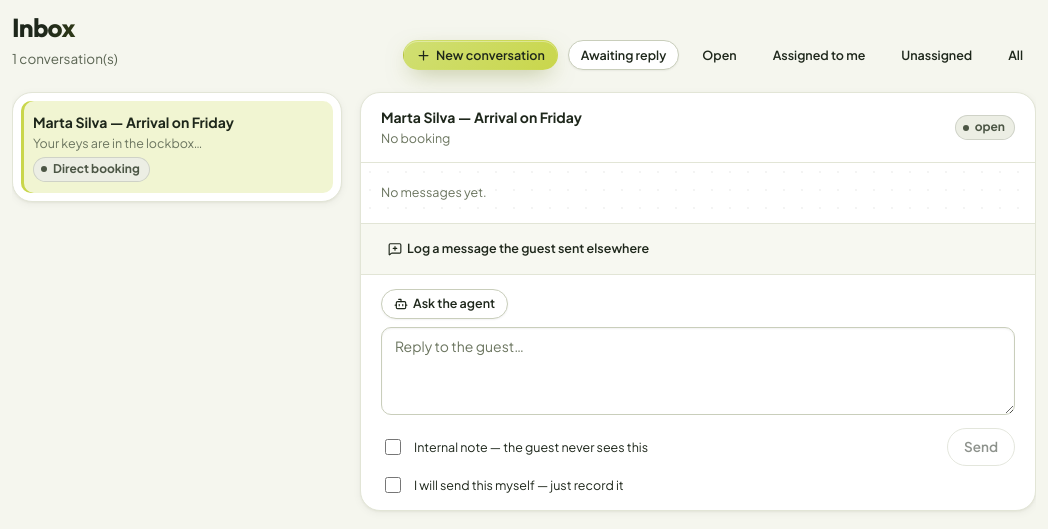
Test case: logging messages that travelled elsewhere › explains itself when there is nothing for the agent to answer
This screenshot has width=1048, height=529.
Click the button "Ask the agent".
click(444, 304)  # box [381,288,508,318]
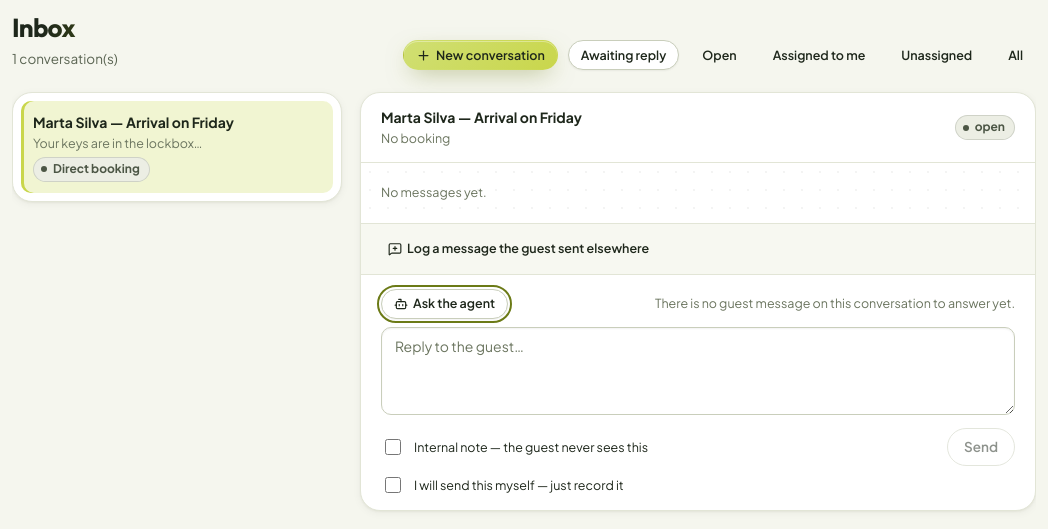
Expected: the text "no guest message on this conversation" is shown, [655,295,1015,311]
